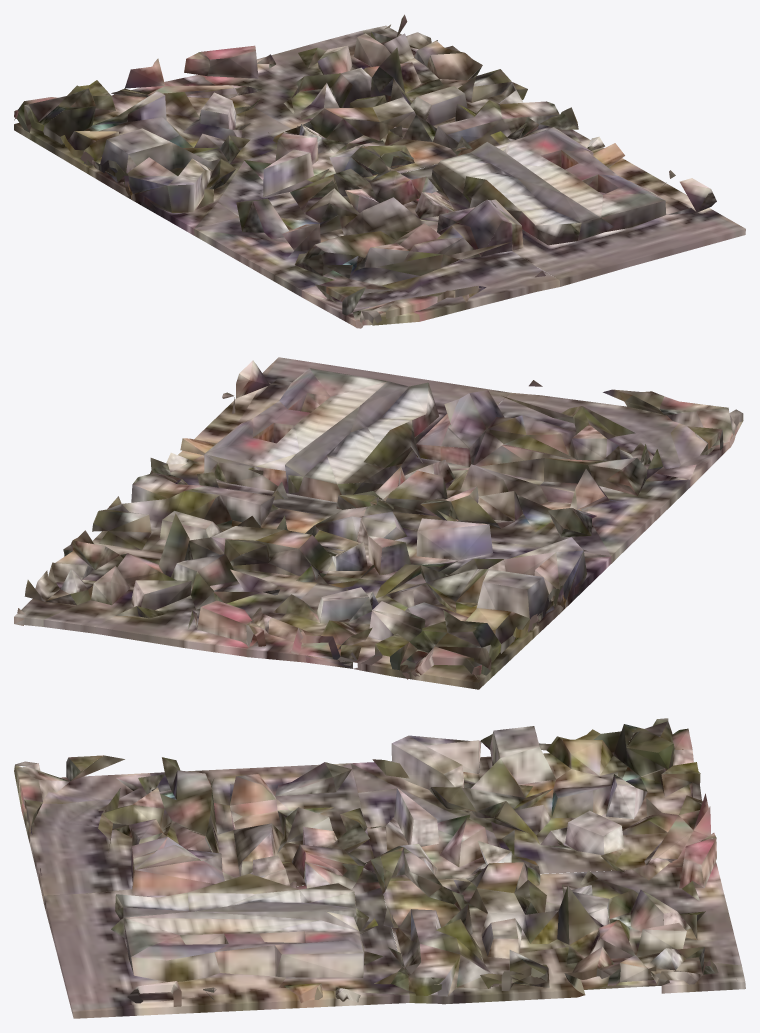
3 views of the same model, one above another, from view 1: azimuth 30°, elevation 25°; view 2: azimuth 150°, elevation 25°; view 3: azimuth 270°, elevation 25° (orthographic). The views are drawn at different scales.
Visible parts, largest first — view 1: Mesh_0; view 2: Mesh_0; view 3: Mesh_0.
Boxes of the visible parts, x1,y1,x2,y2 form: Mesh_0: [14, 14, 745, 328]; Mesh_0: [14, 357, 743, 689]; Mesh_0: [14, 718, 745, 1018].
Bounding box in the file's own units: 266 × 34.95 × 330.
Materials: 2 (2 with a texture image).
